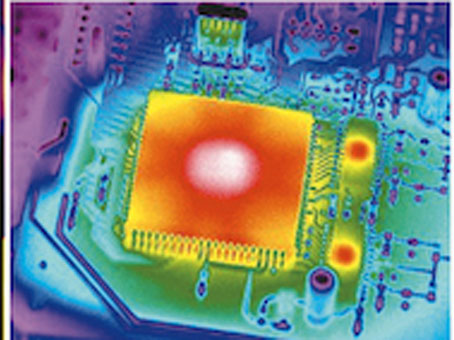componente_T: (120, 88, 315, 276), (337, 120, 378, 184), (192, 8, 247, 53), (327, 228, 363, 285)
